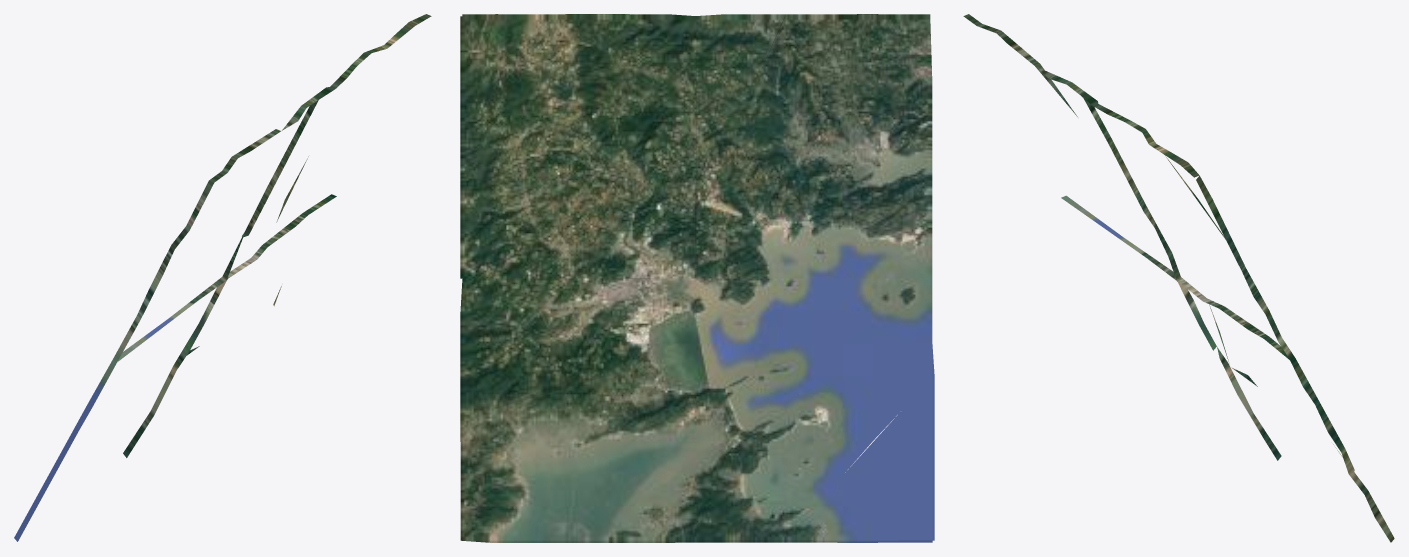
The picture shows the model from 3 angles, left to right: view 1: azimuth 30°, elevation 25°; view 2: azimuth 150°, elevation 25°; view 3: azimuth 270°, elevation 25°; orthographic projection. The views are drawn at different scales.
Size of the model in its own units: 39345 by 35818 by 33410.
1 material, 1 textured.
